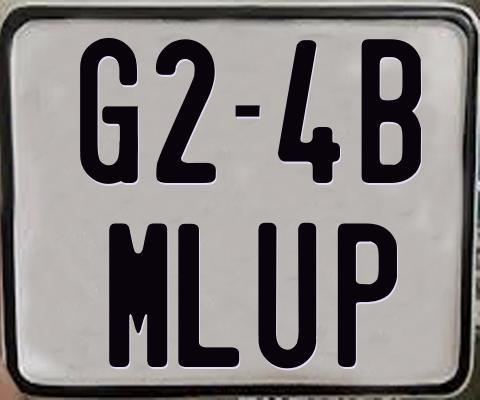2: (154, 37, 219, 184)
4: (276, 37, 339, 185)
B: (360, 36, 422, 183)
G: (79, 38, 142, 184)
L: (176, 221, 237, 366)
M: (106, 223, 170, 370)
P: (335, 222, 394, 372)
U: (258, 221, 318, 371)
